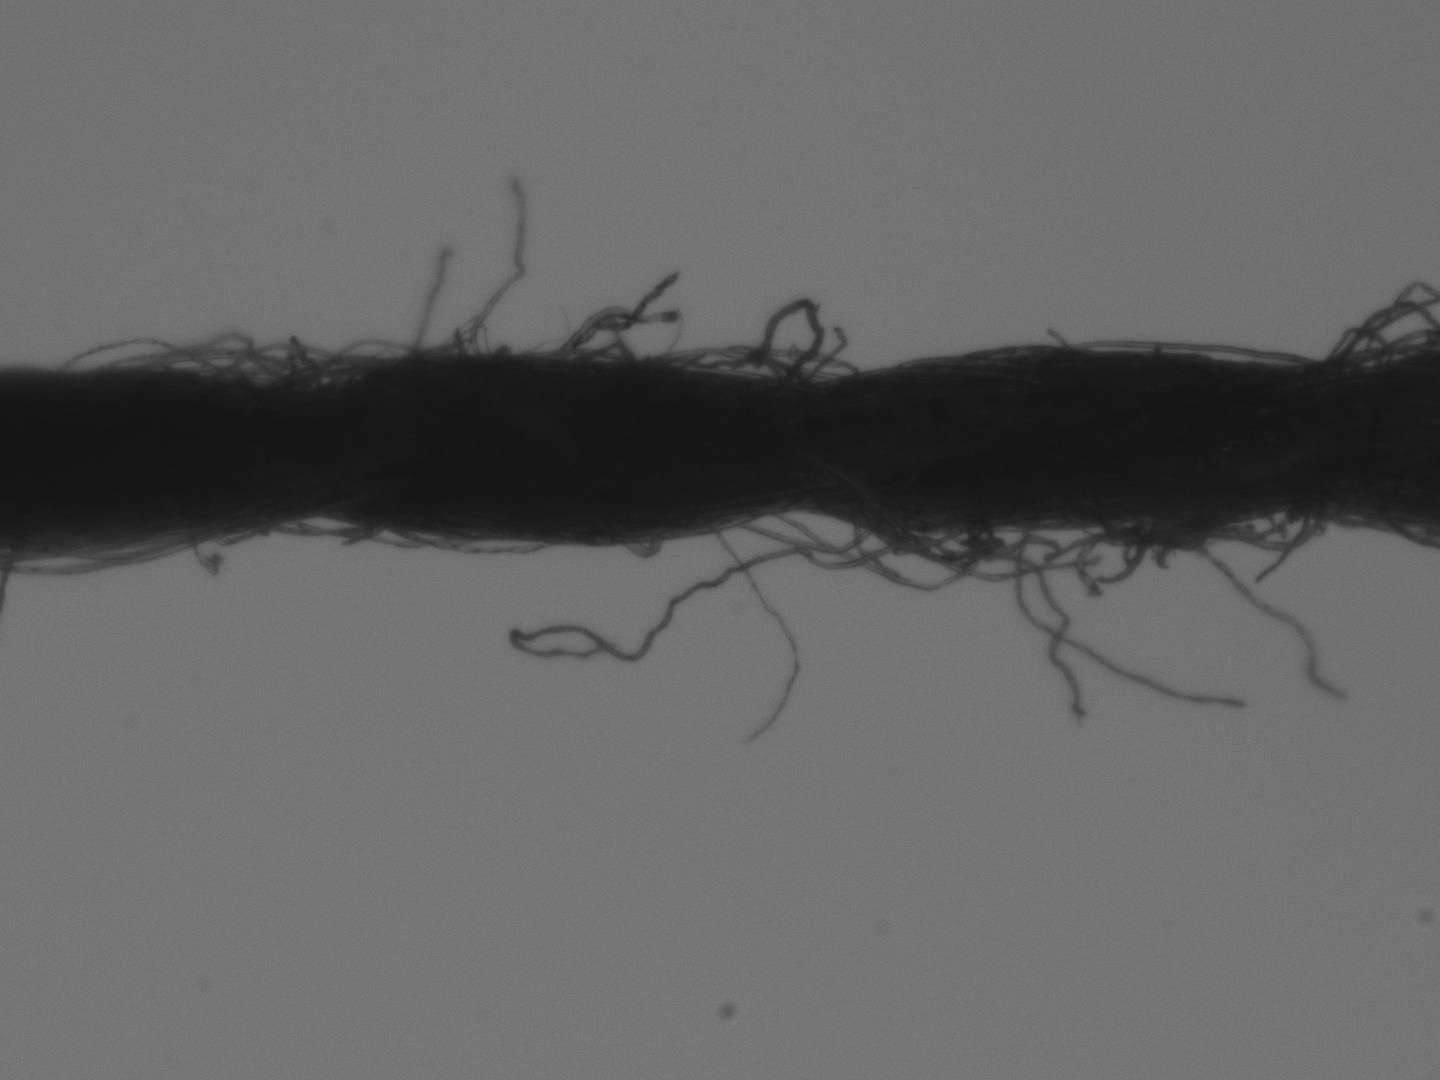loop_fiber: (647, 296, 827, 389), (6, 524, 221, 576), (735, 505, 891, 573), (653, 344, 849, 388), (1066, 335, 1307, 364), (57, 525, 223, 566), (965, 522, 1136, 558), (1332, 303, 1430, 365), (57, 341, 221, 378), (211, 347, 375, 382), (152, 332, 274, 379), (308, 338, 420, 387), (770, 505, 865, 554), (1188, 511, 1307, 549), (383, 525, 543, 554), (871, 514, 977, 551), (1098, 517, 1203, 550), (1325, 327, 1392, 369), (279, 334, 324, 391), (1373, 331, 1433, 365), (270, 517, 364, 538), (285, 369, 365, 390), (576, 341, 646, 365), (621, 535, 663, 559), (427, 338, 482, 355)
protruding_fiber: (505, 524, 858, 666), (1186, 542, 1347, 700), (986, 528, 1086, 719), (715, 530, 799, 742), (455, 179, 525, 351), (562, 271, 676, 358), (559, 305, 672, 360), (408, 246, 449, 356)
